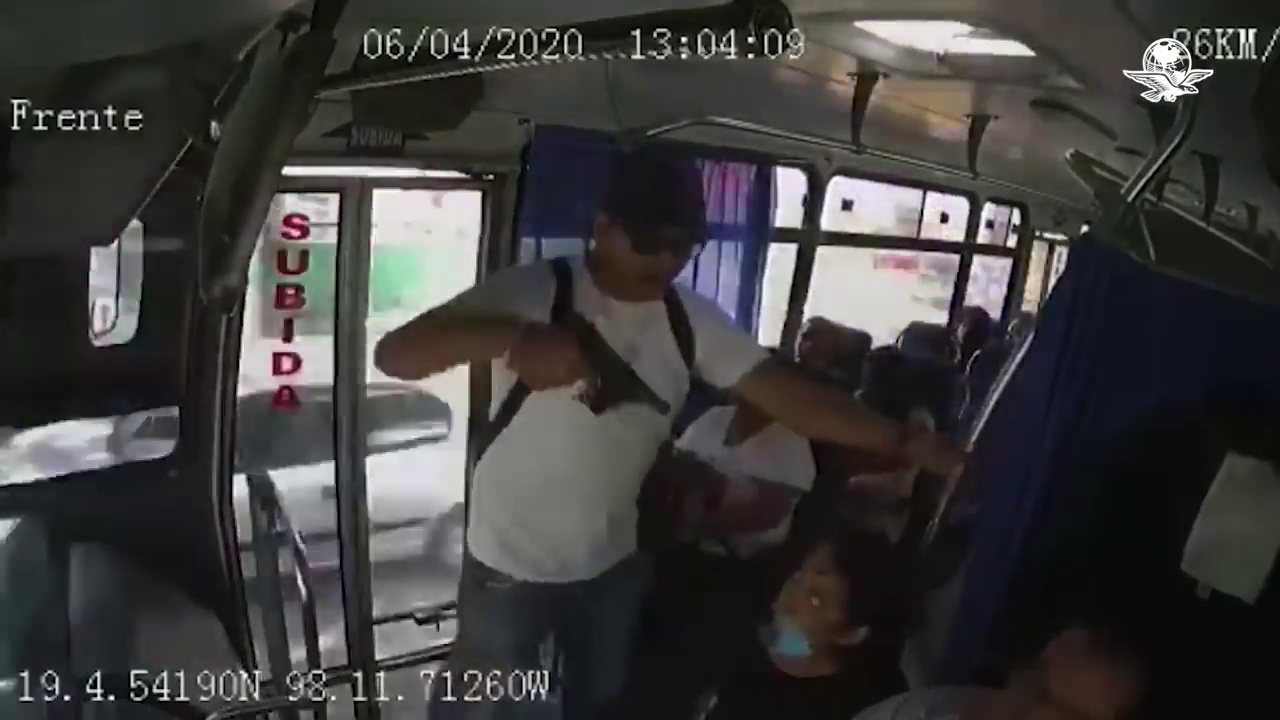pistol: (547, 308, 675, 418)
